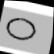no answer: (2, 14, 38, 44)
